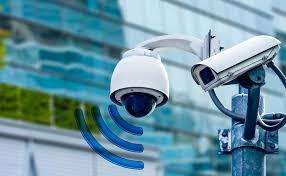maru: (107, 46, 177, 122)
tutu: (188, 32, 283, 95)
